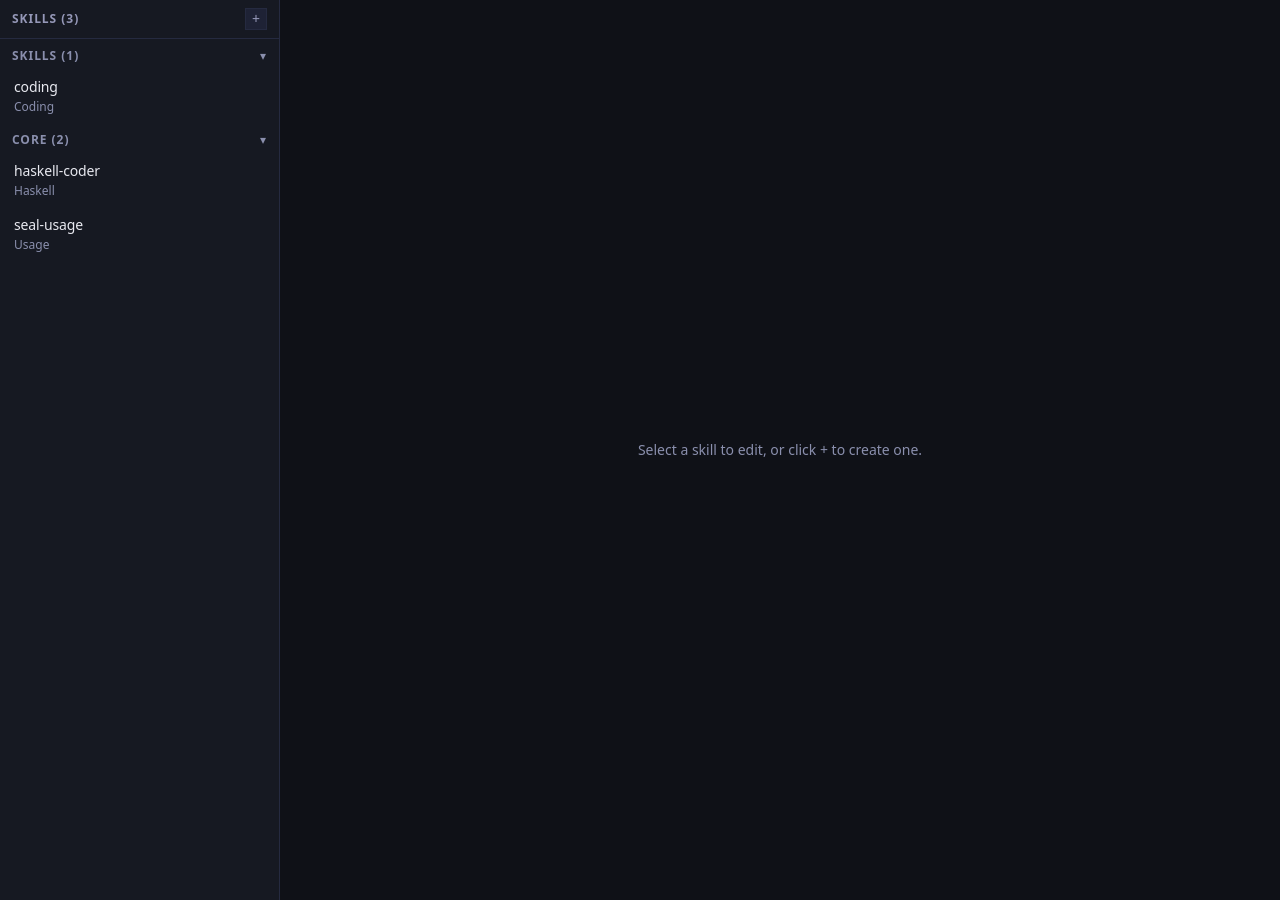
Test case: SkillsView › collapses a group when its header is clicked
This screenshot has width=1280, height=900.
Expected: the element with test id "skill-row-seal-usage" is shown, [14,215,83,253]
Expected: the element with test id "skill-row-haskell-coder" is shown, [14,161,100,199]
Note: Click the header to collapse
Click the element with test id "skill-group-header-core" at (30, 140), box [12,131,267,148]
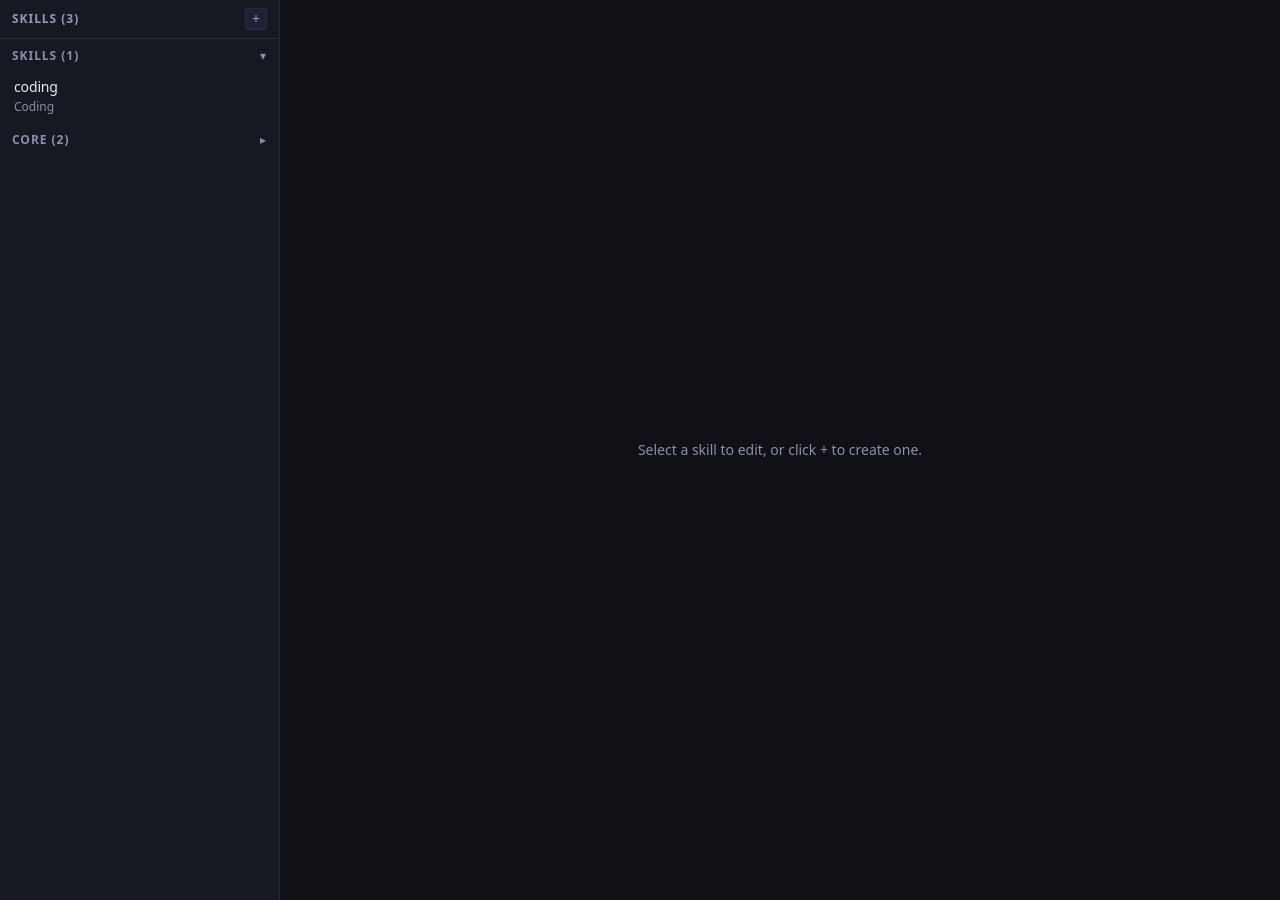
Expected: the element with test id "skill-row-coding" is shown, [14,77,58,115]
Now the element with test id "skill-row-seal-usage" is gone
Now the element with test id "skill-row-haskell-coder" is gone
